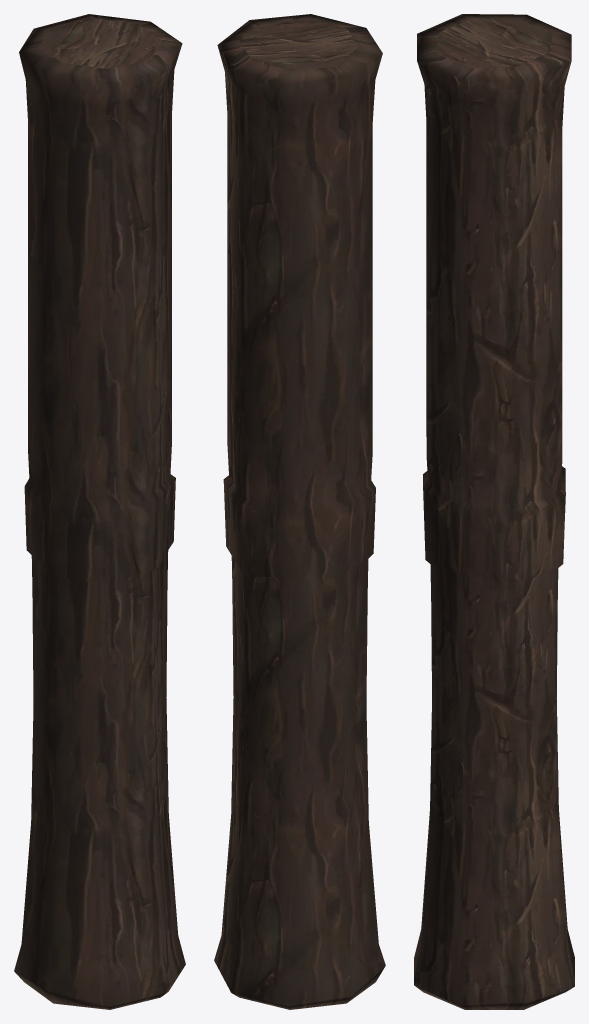
3 views of the same model, side by side, from view 1: azimuth 30°, elevation 25°; view 2: azimuth 150°, elevation 25°; view 3: azimuth 270°, elevation 25° (orthographic).
Size of the model in its own units: 1.72 by 11.08 by 1.72.
1 material, 1 textured.
